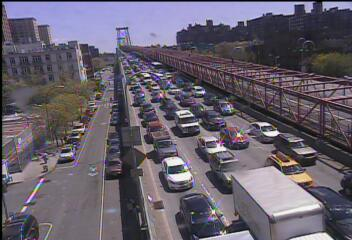neg: (126, 151, 149, 181), (175, 97, 195, 124), (113, 50, 131, 74), (85, 76, 100, 97)
